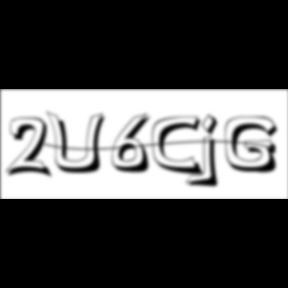2: (6, 117, 56, 181)
6: (112, 112, 158, 176)
C: (152, 115, 206, 178)
G: (225, 116, 284, 176)
U: (47, 110, 112, 176)
j: (198, 113, 226, 191)
